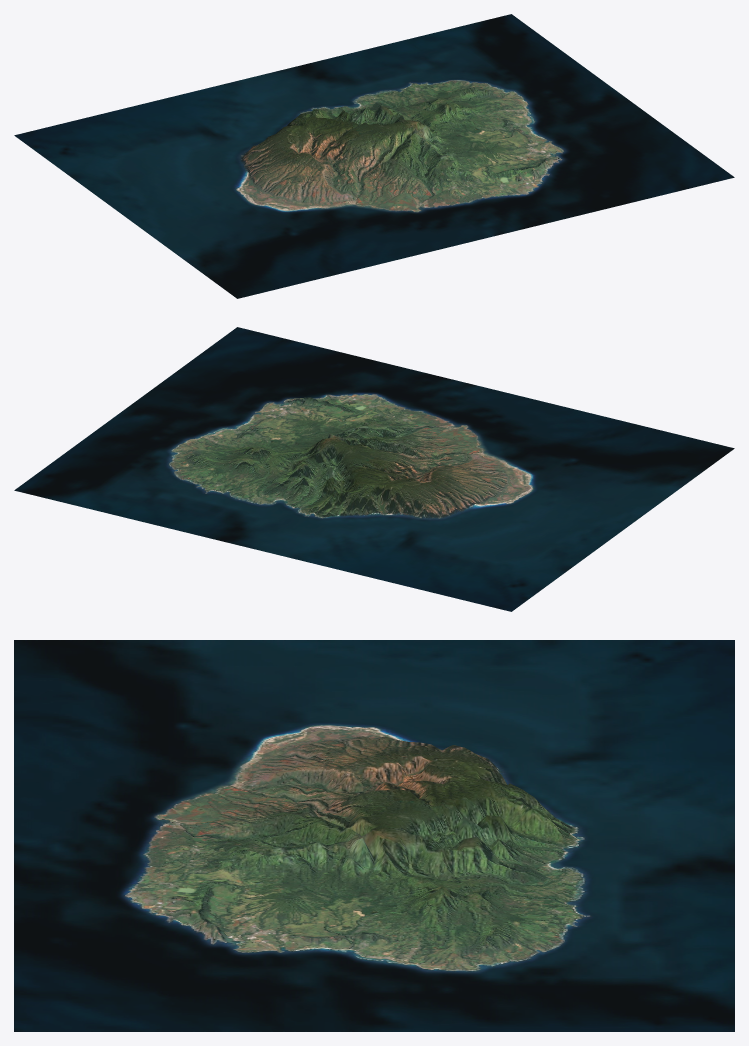
File: island3u.glb
The picture shows the model from 3 angles, top to bottom: view 1: azimuth 30°, elevation 25°; view 2: azimuth 150°, elevation 25°; view 3: azimuth 270°, elevation 25°; orthographic projection. The views are drawn at different scales.
Parts seen in each view (by area): view 1: skfb_offset; view 2: skfb_offset; view 3: skfb_offset.
Boxes of the visible parts, x1,y1,x2,y2 form: skfb_offset: [14, 14, 734, 298]; skfb_offset: [14, 327, 734, 611]; skfb_offset: [14, 640, 734, 1031].
Bounding box in the file's own units: 88.06 × 3.78 × 68.49.
Materials: 1 (1 with a texture image).
